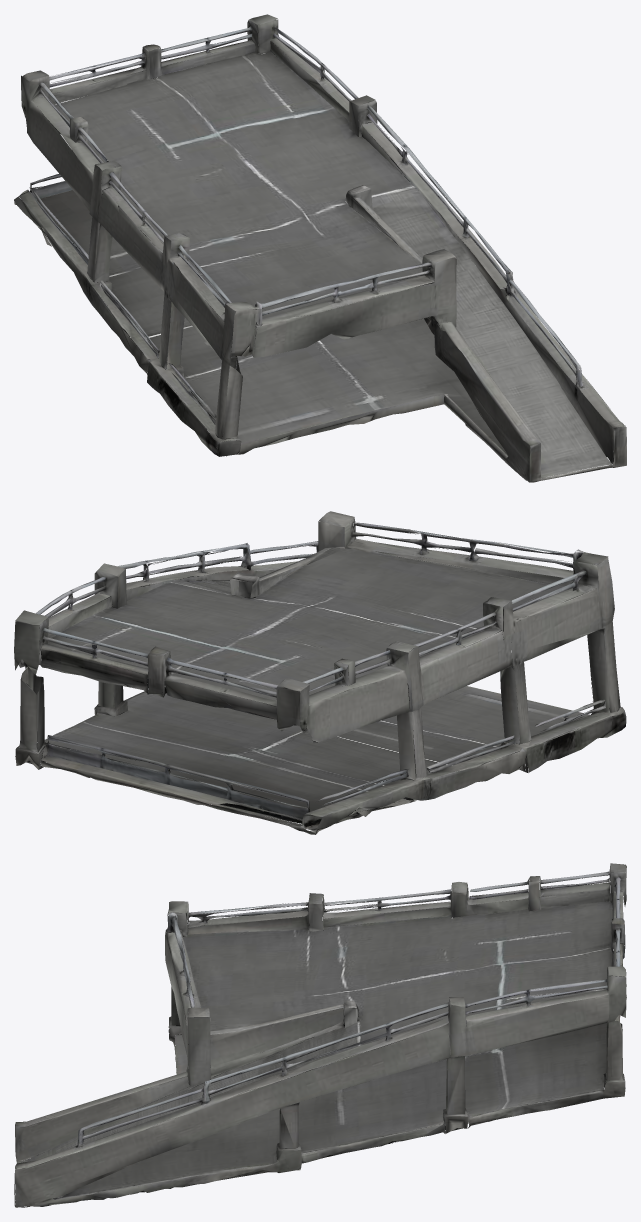
File: drift_parkhaus.glb
3 views of the same model, one above another, from view 1: azimuth 30°, elevation 25°; view 2: azimuth 150°, elevation 25°; view 3: azimuth 270°, elevation 25° (orthographic). The views are drawn at different scales.
Parts seen in each view (by area): view 1: Prop; view 2: Prop; view 3: Prop.
Boxes of the visible parts, <box> form: Prop: <box>14,14,626,482</box>; Prop: <box>14,511,626,834</box>; Prop: <box>14,863,626,1207</box>.
Bounding box in the file's own units: 1.52 × 1.01 × 2.58.
1 material, 1 textured.
